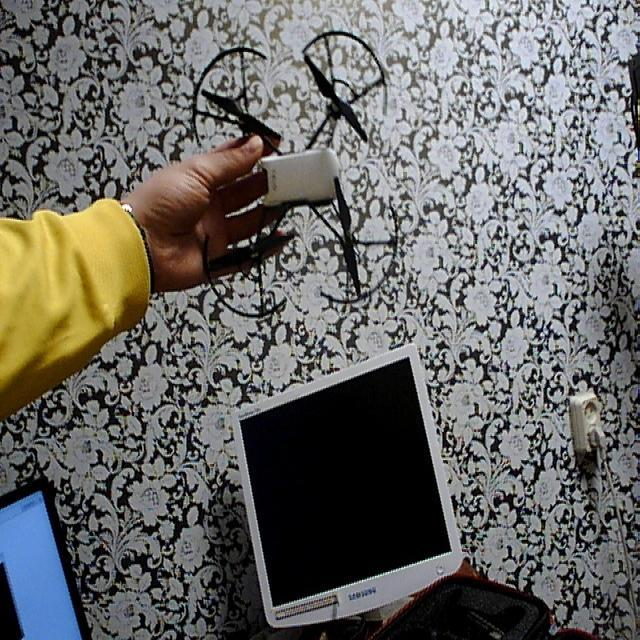drone: (186, 21, 413, 327)
